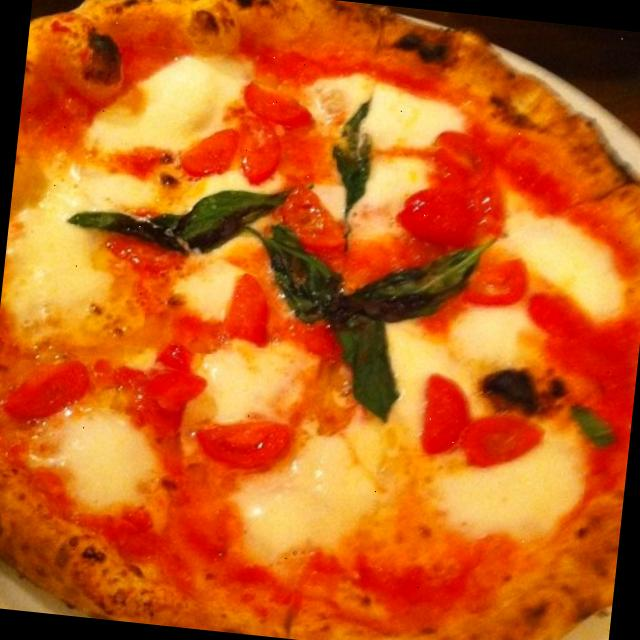basil: (307, 287, 415, 420), (349, 236, 478, 326), (254, 230, 344, 318), (329, 90, 389, 211), (72, 200, 200, 256), (183, 186, 285, 256), (568, 402, 620, 450)
cheese: (0, 158, 159, 352), (229, 407, 402, 571), (427, 393, 592, 544), (80, 39, 258, 168), (474, 188, 636, 322), (175, 162, 285, 332), (176, 320, 316, 440), (28, 402, 168, 520), (368, 314, 482, 450), (310, 84, 476, 152), (446, 294, 564, 381)
pizza: (0, 0, 640, 640)
tomato: (397, 145, 512, 252), (177, 112, 286, 188), (0, 347, 91, 434), (452, 407, 550, 476), (118, 345, 212, 416), (198, 412, 295, 476), (416, 366, 470, 458), (456, 250, 529, 316), (220, 272, 278, 352), (232, 81, 317, 130)
